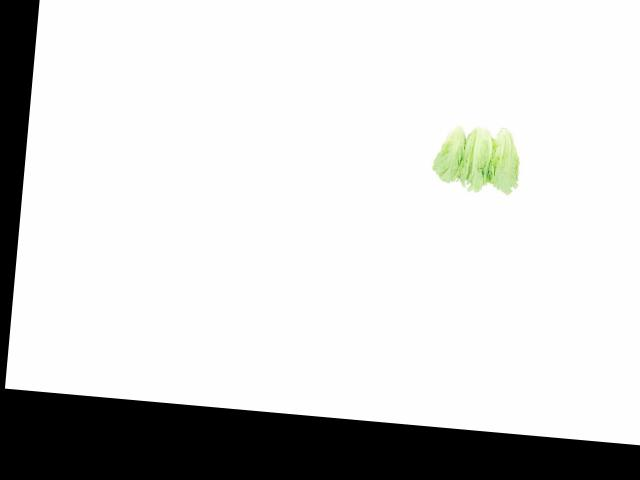lettuce: (430, 109, 472, 186)
